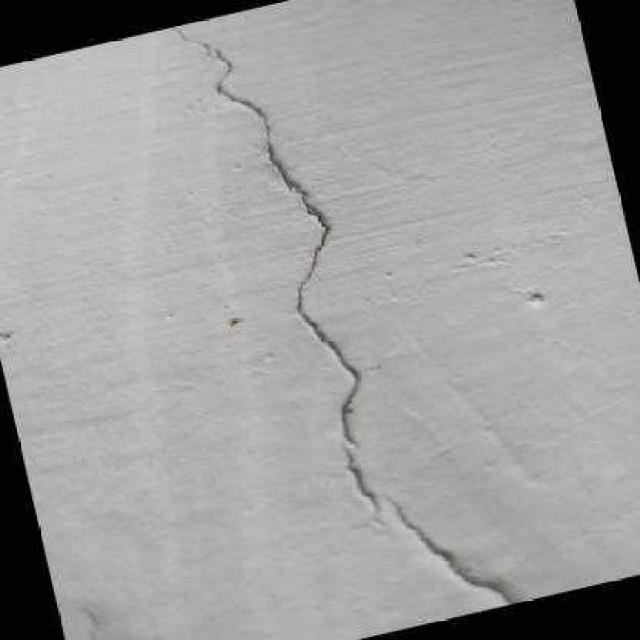D00: (168, 25, 362, 443), (387, 496, 522, 604), (340, 442, 387, 525)
